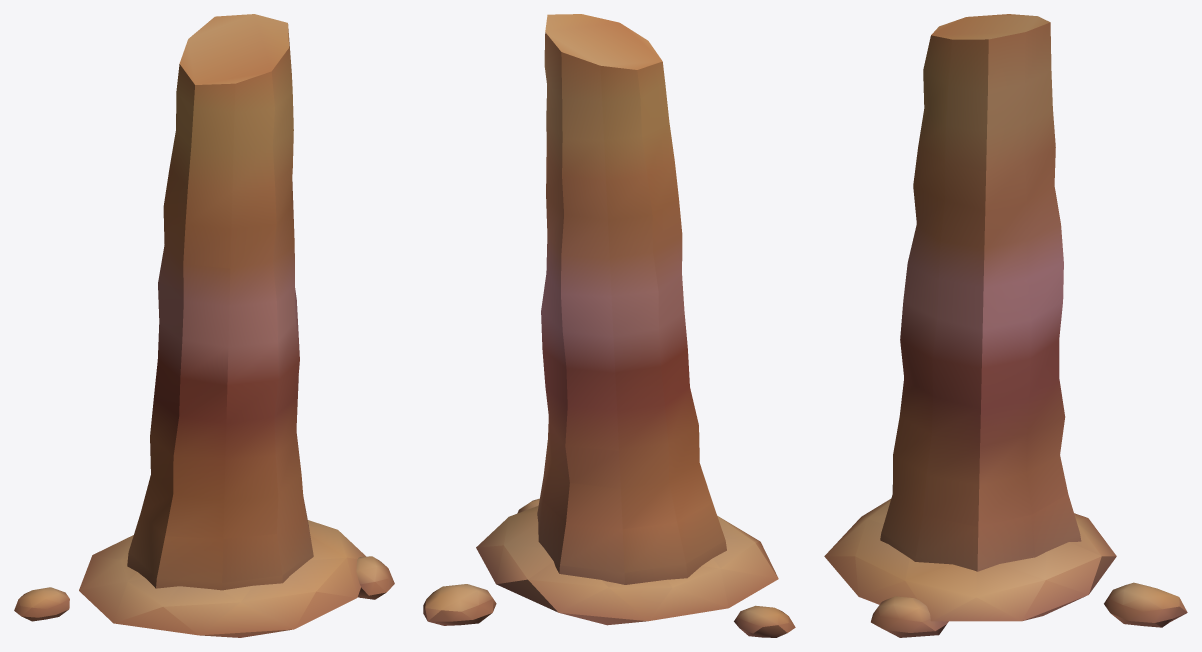
The model's file is amber_rock_menhir_a.glb.
3 views of the same model, side by side, from view 1: azimuth 30°, elevation 25°; view 2: azimuth 150°, elevation 25°; view 3: azimuth 270°, elevation 25° (orthographic). The views are drawn at different scales.
Parts seen in each view (by area): view 1: amber_rock_menhir_a; view 2: amber_rock_menhir_a; view 3: amber_rock_menhir_a.
Part boxes in pixels (x1,y1,x2,y2): amber_rock_menhir_a: (14,14,394,637); amber_rock_menhir_a: (423,14,795,637); amber_rock_menhir_a: (824,14,1187,637).
Size of the model in its own units: 3.45 by 5.63 by 3.25.
